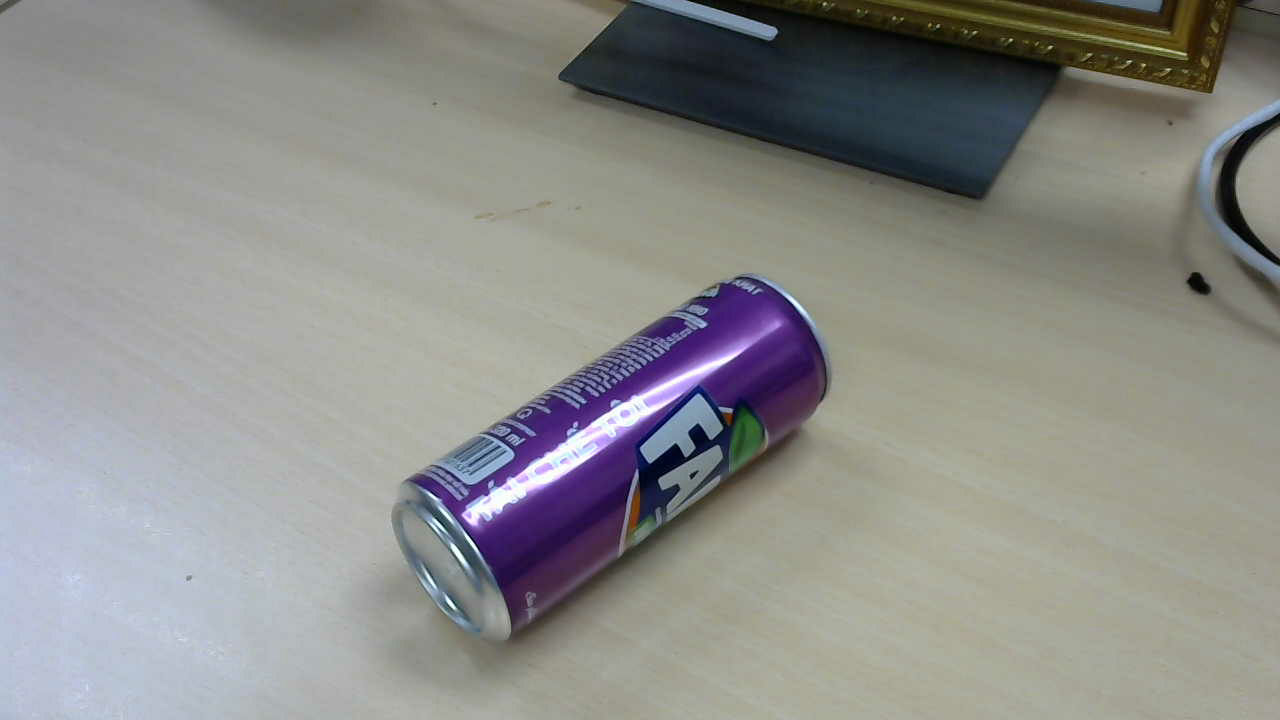Fanta: (392, 274, 839, 648)
